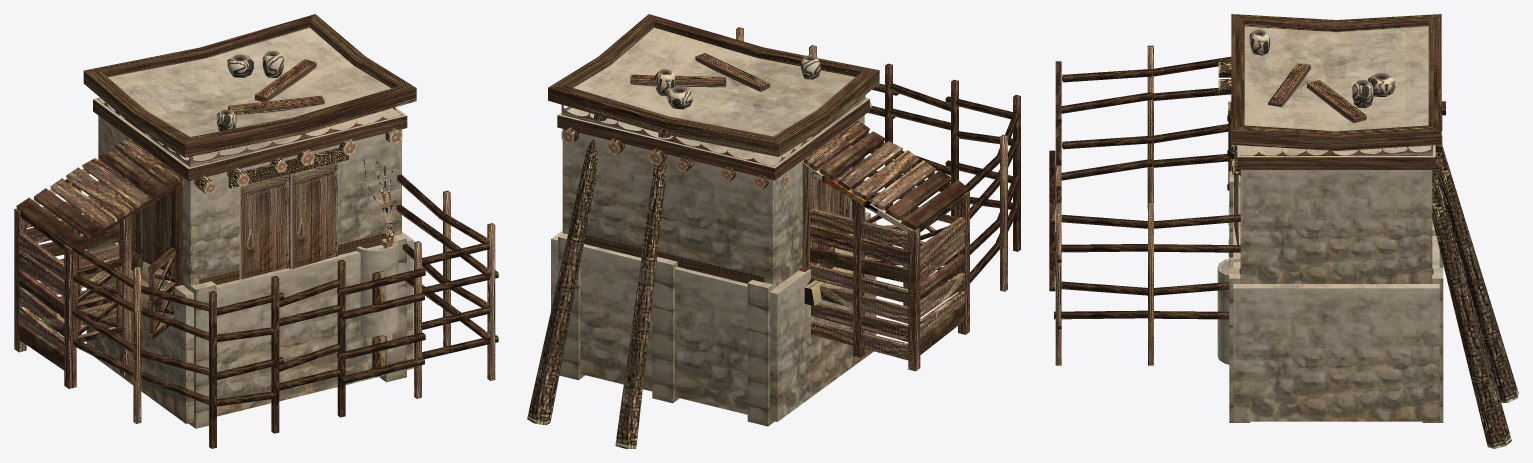
File: mino_corral.dae
The picture shows the model from 3 angles, left to right: view 1: azimuth 30°, elevation 25°; view 2: azimuth 150°, elevation 25°; view 3: azimuth 270°, elevation 25°; orthographic projection. The views are drawn at different scales.
Visible parts, largest first — view 1: Cube_001; view 2: Cube_001; view 3: Cube_001.
Boxes of the visible parts, x1=… form: Cube_001: x1=14, y1=14, x2=498, y2=448; Cube_001: x1=527, y1=14, x2=1020, y2=448; Cube_001: x1=1049, y1=14, x2=1518, y2=448.
Size of the model in its own units: 16.14 by 18.83 by 14.78.
